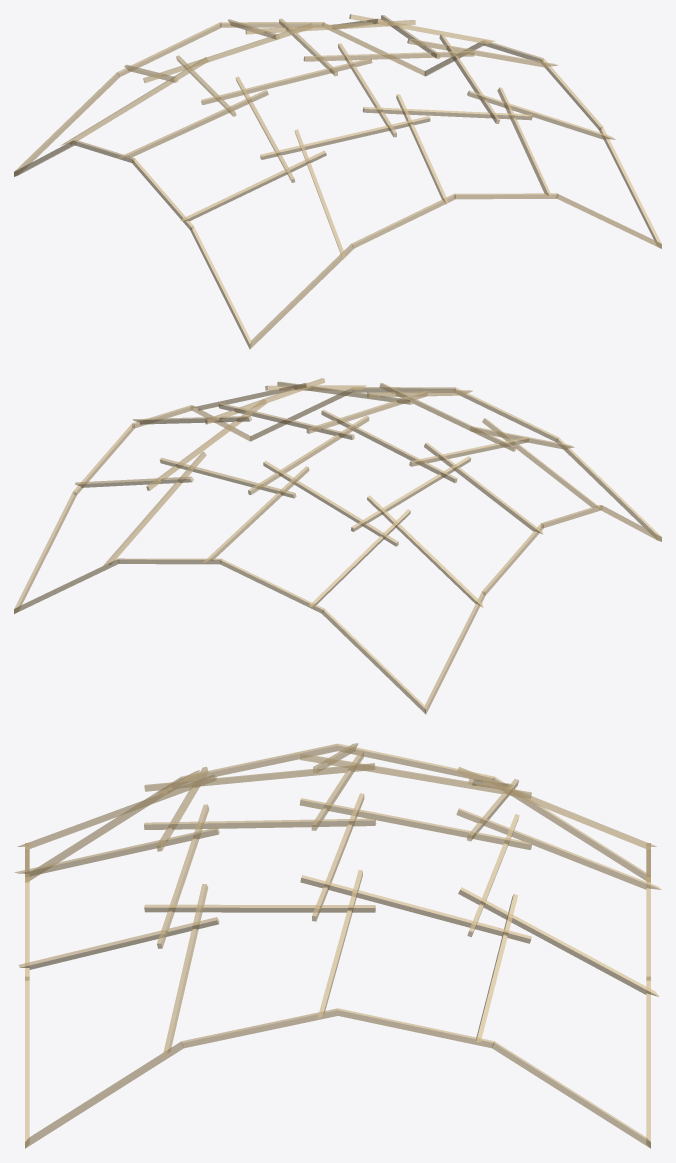
File: a03_design-project-EXAMPLE-FILE-PLEASE-USE-YOURS.glb
3 renders of one model, top to bottom at view 1: azimuth 30°, elevation 25°; view 2: azimuth 150°, elevation 25°; view 3: azimuth 270°, elevation 25°, orthographic. The views are drawn at different scales.
Bounding box in the file's own units: 0.00851 × 0.00297 × 0.00844.
